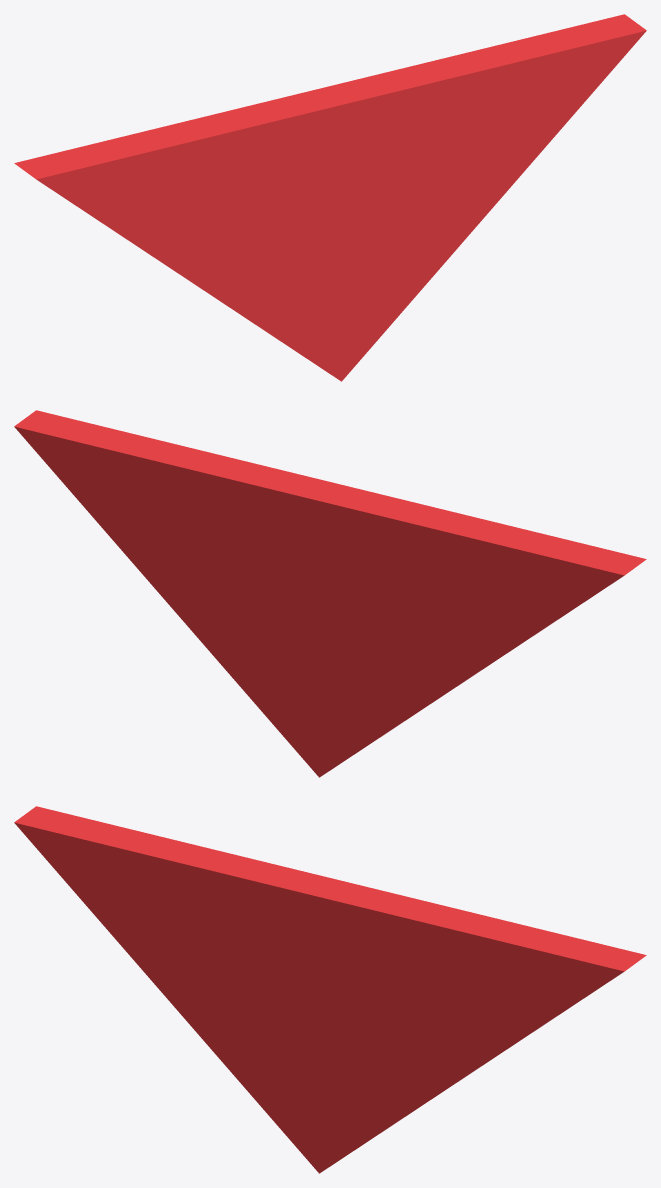
Rendered from arrow.dae.
The picture shows the model from 3 angles, top to bottom: view 1: azimuth 30°, elevation 25°; view 2: azimuth 150°, elevation 25°; view 3: azimuth 330°, elevation 25°; orthographic projection.
Visible parts, largest first — view 1: Circle; view 2: Circle; view 3: Circle.
Part boxes in pixels (x1,y1,x2,y2): Circle: (14, 14, 646, 381); Circle: (14, 410, 646, 777); Circle: (14, 806, 646, 1173).
Size of the model in its own units: 3.46 by 0.2193 by 1.5.
